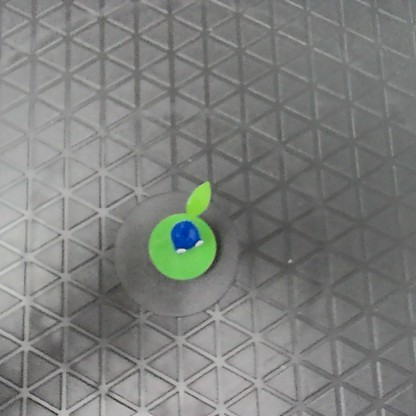leafairy: (147, 178, 218, 282)
